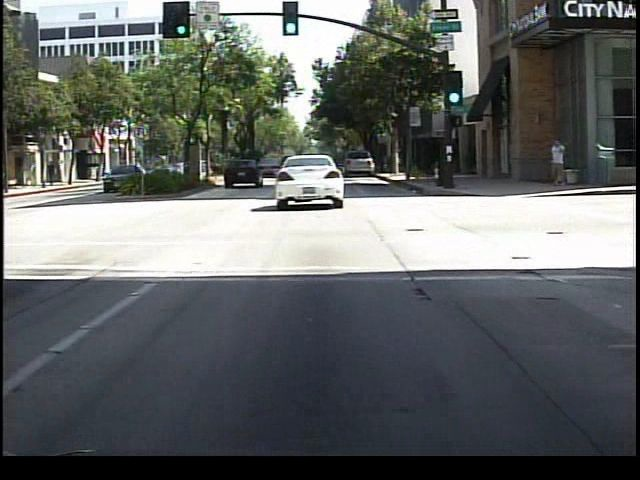person: (546, 137, 570, 192), (45, 158, 60, 193)
